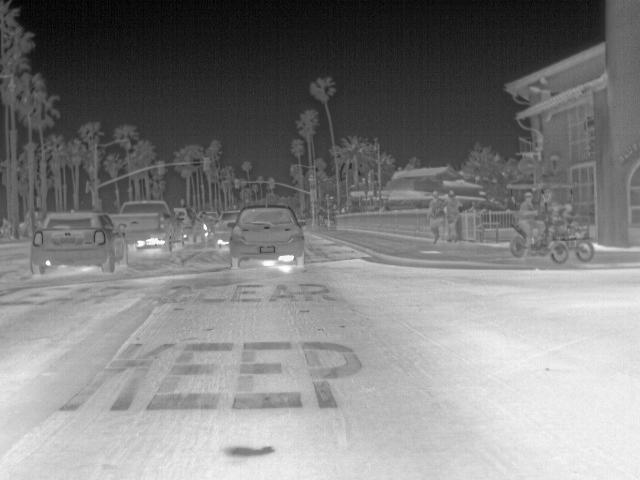car: (29, 208, 126, 276), (228, 204, 308, 271), (109, 196, 185, 248), (209, 209, 241, 245), (173, 205, 199, 241)
person: (514, 192, 544, 251), (428, 188, 447, 244), (442, 189, 462, 241)
